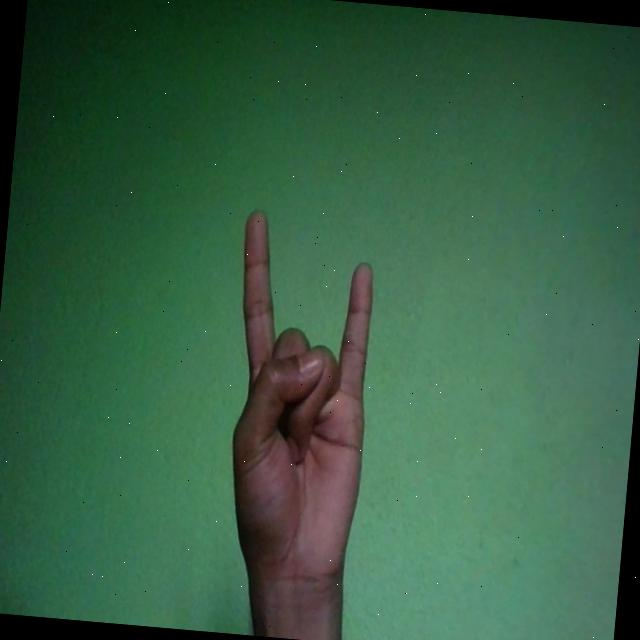open Plam: (215, 208, 384, 595)
